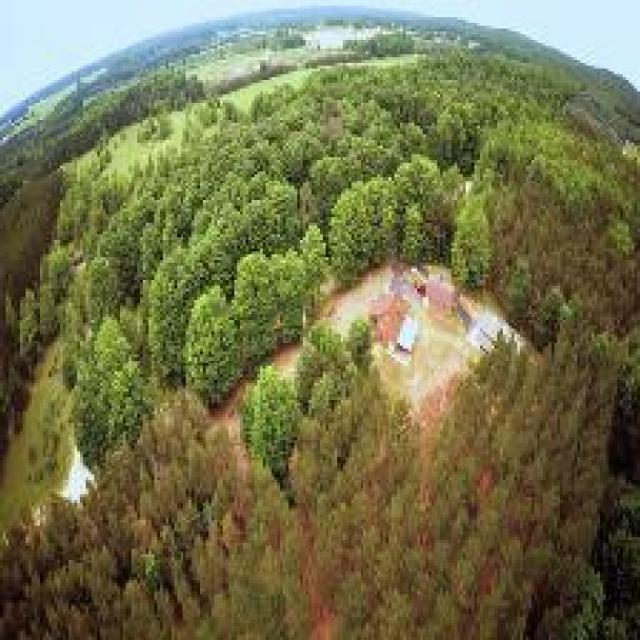other: (316, 235, 515, 413)
